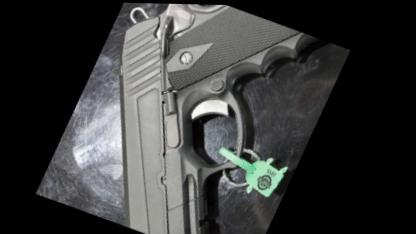pistol: (44, 1, 343, 231)
